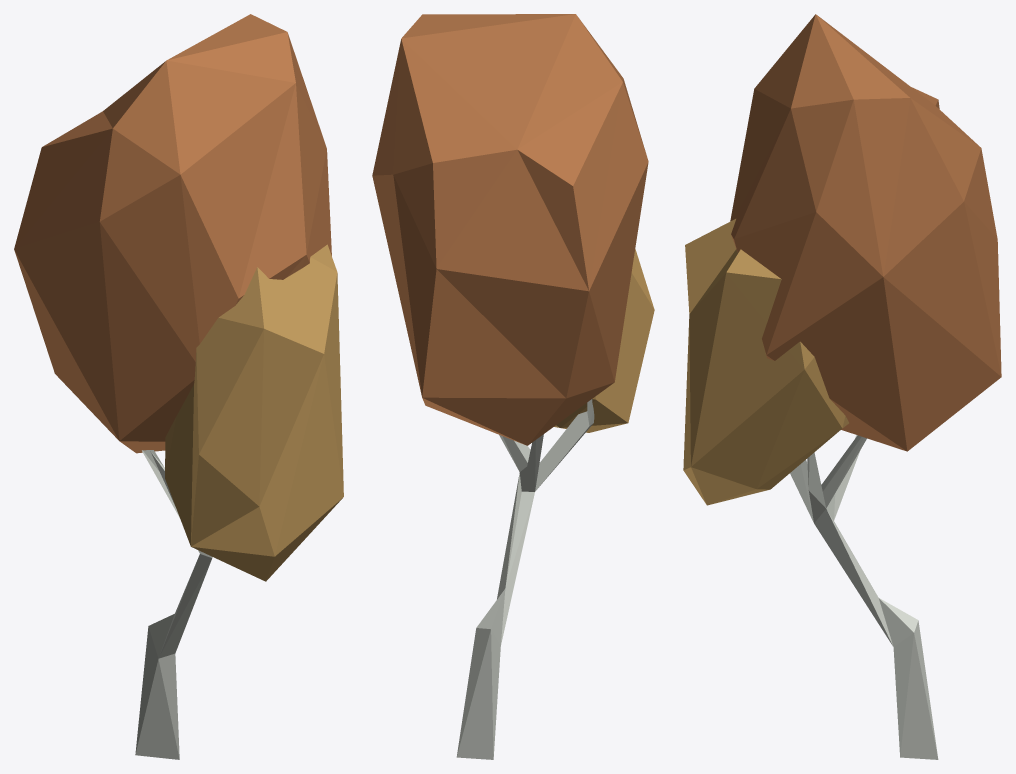
The model's file is BirchTree_Autumn_2.lod3.glb.
3 views of the same model, side by side, from view 1: azimuth 30°, elevation 25°; view 2: azimuth 150°, elevation 25°; view 3: azimuth 270°, elevation 25° (orthographic). The views are drawn at different scales.
Visible parts, largest first — view 1: BirchTree_Autumn_2; view 2: BirchTree_Autumn_2; view 3: BirchTree_Autumn_2.
Part boxes in pixels (bbox=[...]): BirchTree_Autumn_2: bbox=[14, 14, 343, 759]; BirchTree_Autumn_2: bbox=[372, 14, 654, 759]; BirchTree_Autumn_2: bbox=[683, 14, 1001, 759].
Bounding box in the file's own units: 1.48 × 4.04 × 1.62.
